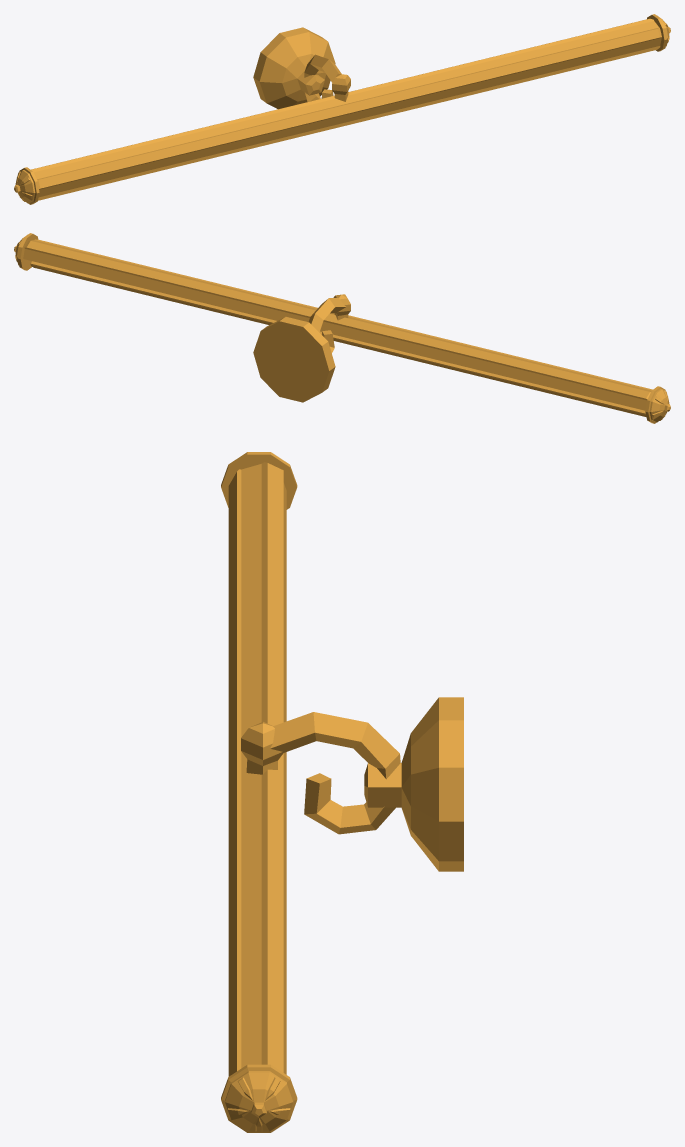
File: SM_Light_Wall_Painting_Long.fbx
3 renders of one model, top to bottom at view 1: azimuth 30°, elevation 25°; view 2: azimuth 150°, elevation 25°; view 3: azimuth 270°, elevation 25°, orthographic. The views are drawn at different scales.
Visible parts, largest first — view 1: light-wall-painting-long; view 2: light-wall-painting-long; view 3: light-wall-painting-long.
Boxes of the visible parts, bbox=[...] form: light-wall-painting-long: bbox=[14, 14, 670, 204]; light-wall-painting-long: bbox=[14, 233, 670, 423]; light-wall-painting-long: bbox=[221, 452, 463, 1132].
Bounding box in the file's own units: 1.78 × 0.1968 × 0.2862.
